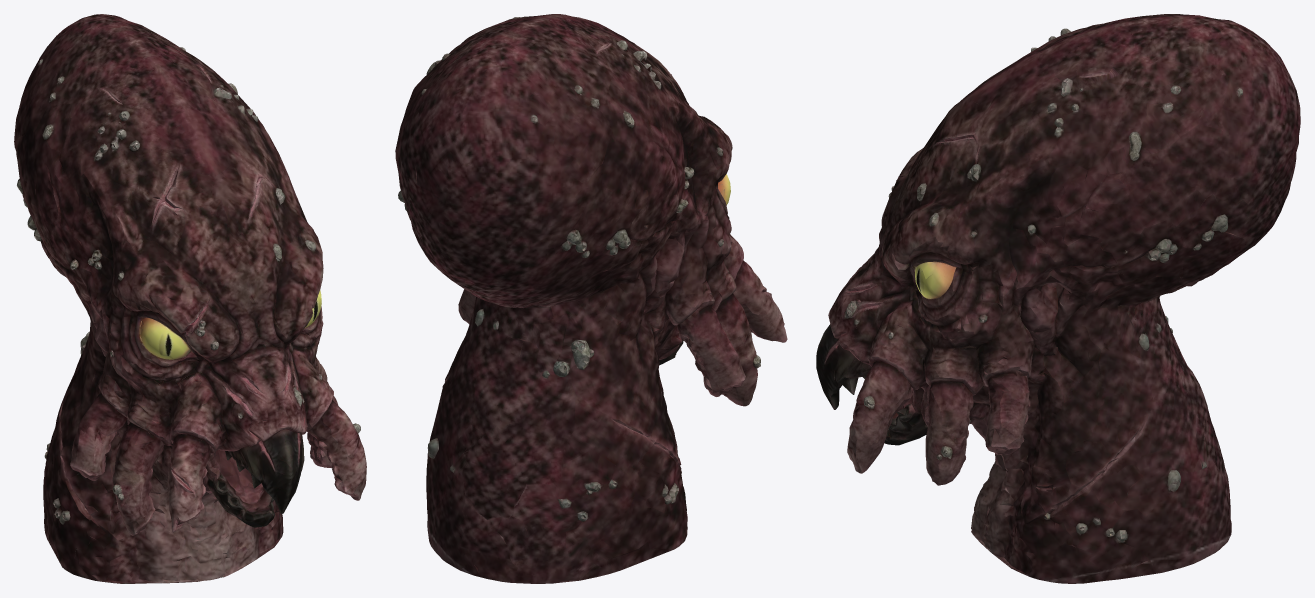
File: kraken.glb
3 views of the same model, side by side, from view 1: azimuth 30°, elevation 25°; view 2: azimuth 150°, elevation 25°; view 3: azimuth 270°, elevation 25° (orthographic). The views are drawn at different scales.
Visible parts, largest first — view 1: Mesh_0; view 2: Mesh_0; view 3: Mesh_0.
Boxes of the visible parts, x1,y1,x2,y2 form: Mesh_0: [14, 14, 366, 583]; Mesh_0: [395, 14, 787, 583]; Mesh_0: [816, 14, 1300, 583].
Bounding box in the file's own units: 1.08 × 1.9 × 1.64.
Materials: 1 (1 with a texture image).
